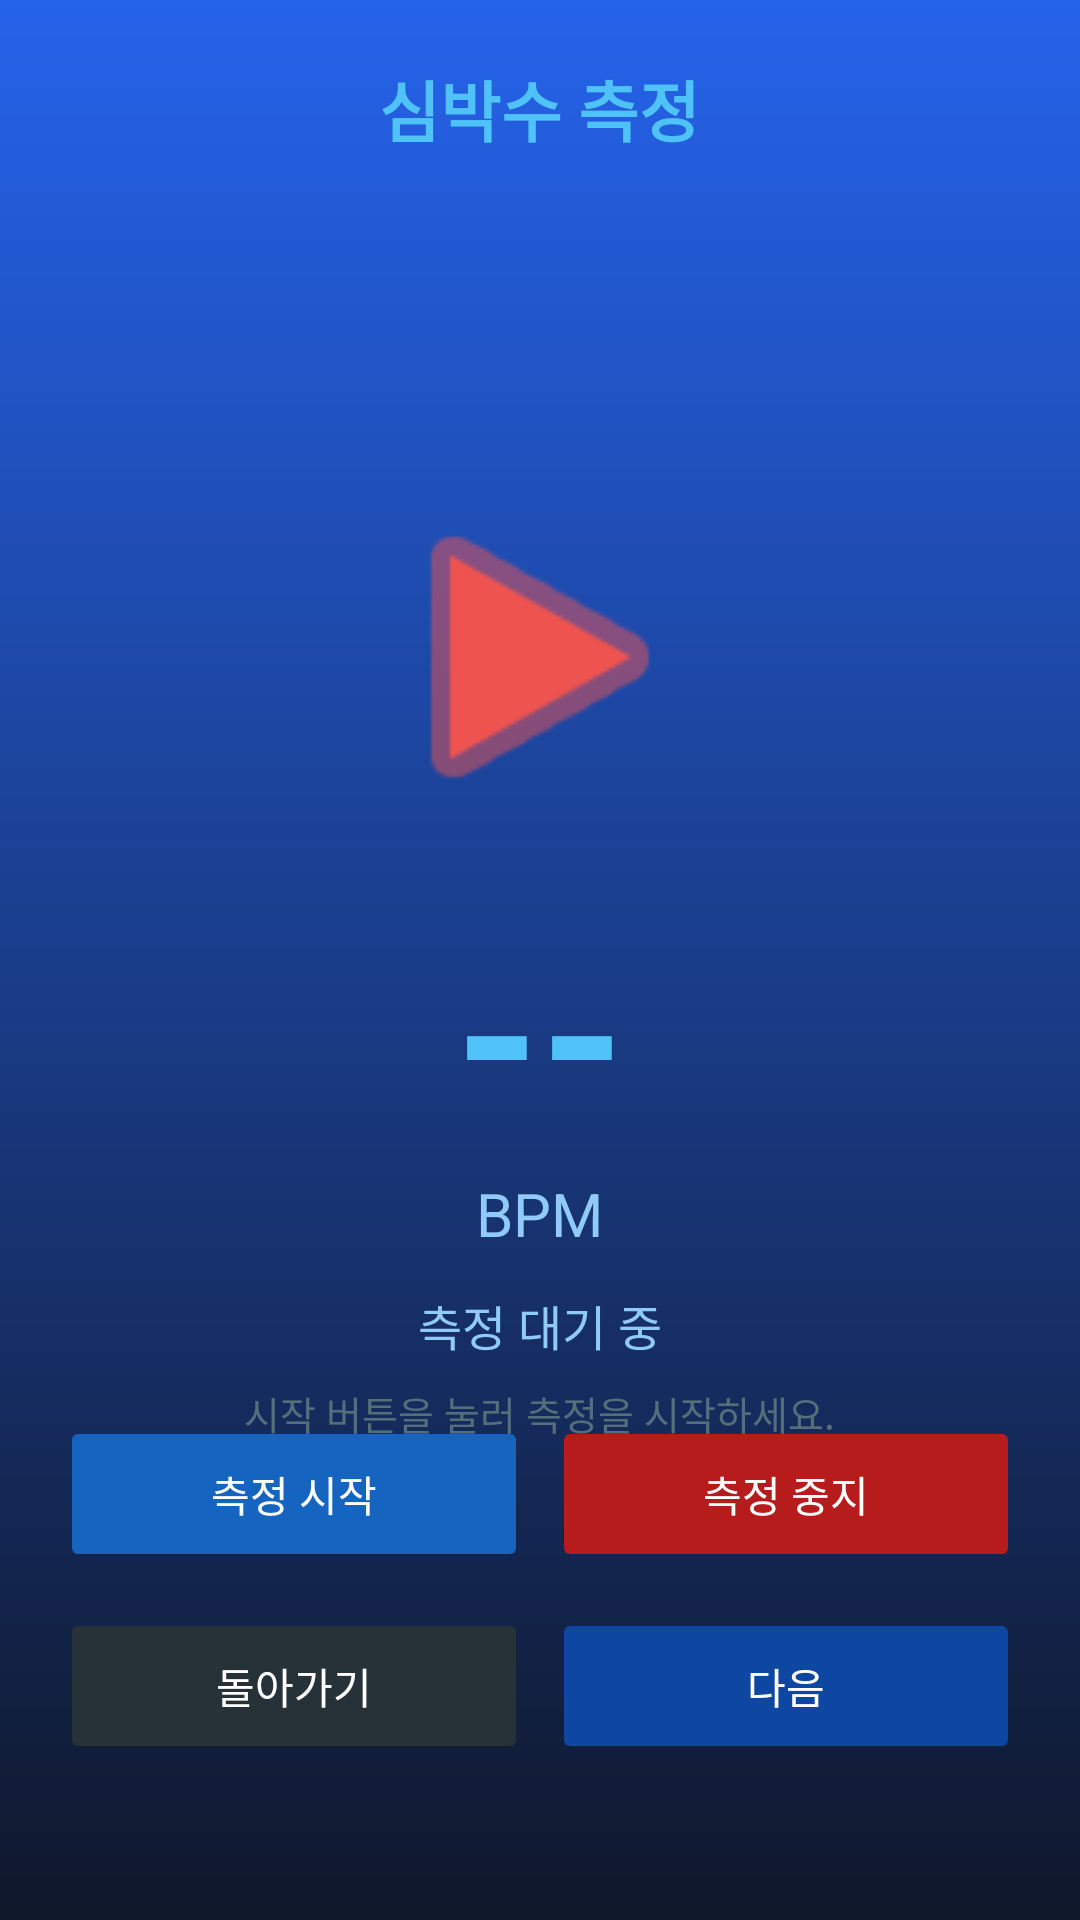

Named icons in this screenshot (1080x1920) and their centers, (x=x, y=y):
play: (x=540, y=657)
